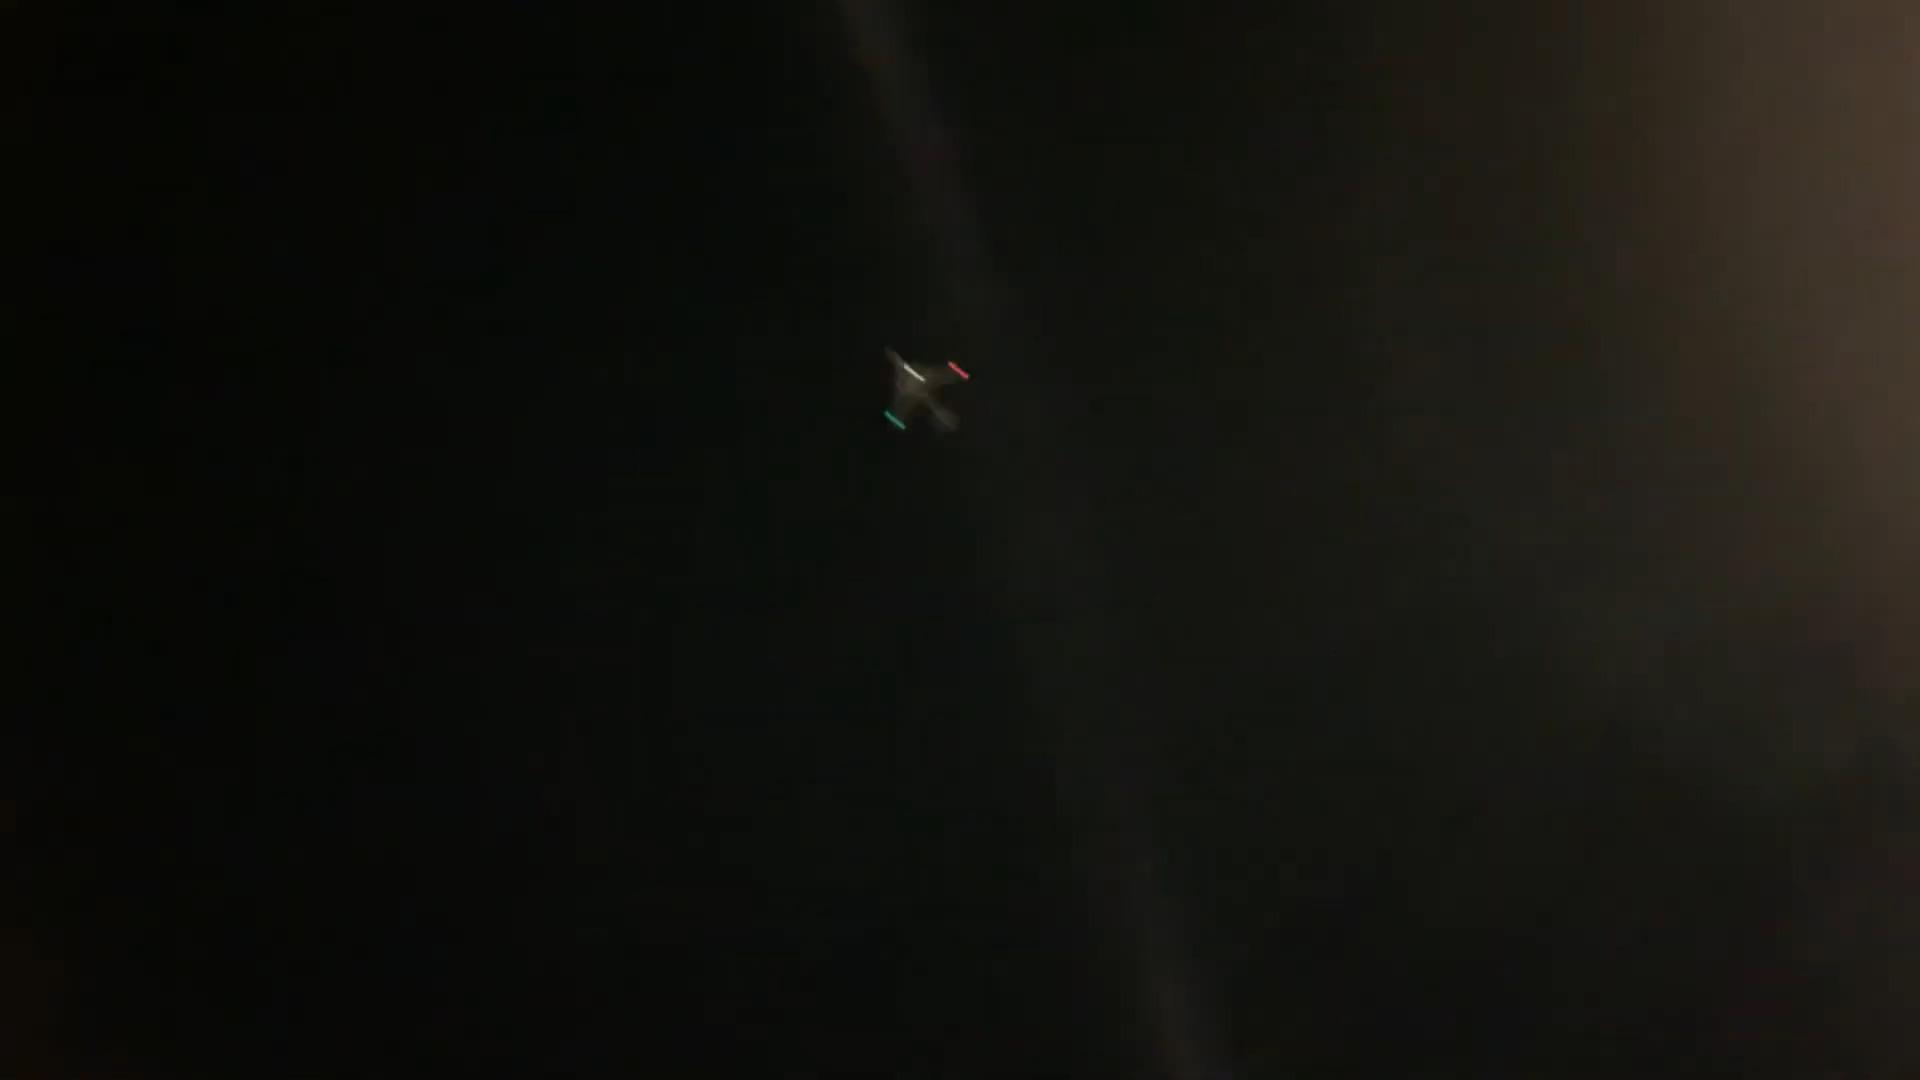Plane: (789, 313, 1069, 472)
